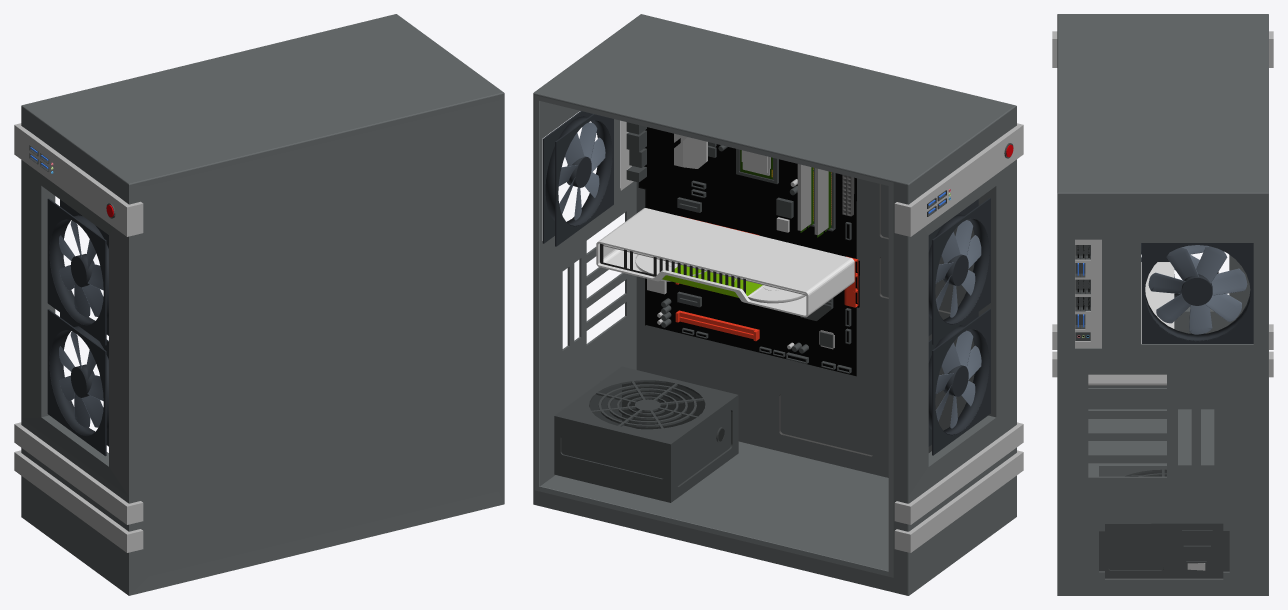
3 renders of one model, left to right at view 1: azimuth 30°, elevation 25°; view 2: azimuth 150°, elevation 25°; view 3: azimuth 270°, elevation 25°, orthographic. The views are drawn at different scales.
Visible parts, largest first — view 1: Case, FrontTopFanCase, FrontBottomFanCase, Front IO, Front IO.001, Front IO.002, FrontBottomFanBlades, FrontTopFanBlades; view 2: Case, MotherBoard, PowerSupply, GraphicsCard, RearFanCase, MB Misc slots, FrontTopFanCase, FrontBottomFanCase, Front IO, Front IO.002, Front IO.001, Ram (+6 smaller); view 3: Case, PowerSupply, RearFanCase, RearFanBlades, IO back plate, GraphicsCard, IO, Front IO.
Part boxes in pixels (x1=…): Case: x1=21, y1=14, x2=504, y2=595; FrontTopFanCase: x1=47, y1=198, x2=108, y2=345; FrontBottomFanCase: x1=47, y1=309, x2=108, y2=456; Front IO: x1=14, y1=123, x2=143, y2=236; Front IO.001: x1=14, y1=422, x2=143, y2=524; Front IO.002: x1=14, y1=450, x2=143, y2=552; FrontBottomFanBlades: x1=59, y1=331, x2=103, y2=427; FrontTopFanBlades: x1=59, y1=221, x2=103, y2=316; Case: x1=533, y1=14, x2=1016, y2=595; MotherBoard: x1=638, y1=127, x2=859, y2=376; PowerSupply: x1=554, y1=366, x2=738, y2=502; GraphicsCard: x1=596, y1=208, x2=854, y2=317; RearFanCase: x1=542, y1=111, x2=613, y2=246; MB Misc slots: x1=647, y1=133, x2=858, y2=373; FrontTopFanCase: x1=928, y1=198, x2=990, y2=344; FrontBottomFanCase: x1=928, y1=308, x2=990, y2=455; Front IO: x1=894, y1=123, x2=1023, y2=236; Front IO.002: x1=894, y1=450, x2=1023, y2=552; Front IO.001: x1=894, y1=422, x2=1023, y2=524; Ram: x1=797, y1=164, x2=831, y2=237; Case: x1=1057, y1=14, x2=1268, y2=595; PowerSupply: x1=1099, y1=466, x2=1229, y2=578; RearFanCase: x1=1141, y1=243, x2=1253, y2=343; RearFanBlades: x1=1148, y1=246, x2=1247, y2=334; IO back plate: x1=1075, y1=239, x2=1101, y2=348; GraphicsCard: x1=1086, y1=262, x2=1174, y2=385; IO: x1=1075, y1=245, x2=1090, y2=340; Front IO: x1=1052, y1=31, x2=1273, y2=67.
Bounding box in the file's own units: 4.43 × 4.55 × 2.26.
